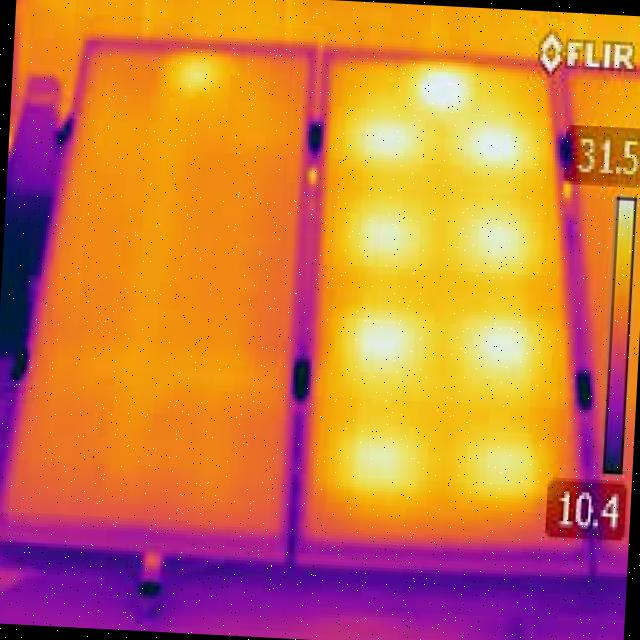Hotspot: (342, 420, 434, 504), (460, 420, 541, 513), (452, 314, 542, 394), (348, 312, 428, 378), (158, 44, 242, 101), (458, 208, 528, 274), (347, 117, 428, 167), (456, 115, 522, 168), (354, 213, 416, 266), (416, 64, 471, 110)
